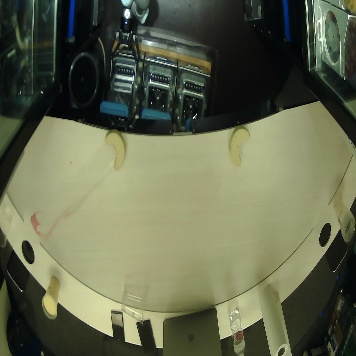empty_cup: (333, 196, 356, 244), (119, 290, 150, 323)
full_cup: (41, 271, 67, 327)
puck: (103, 126, 130, 170), (226, 122, 253, 166)
